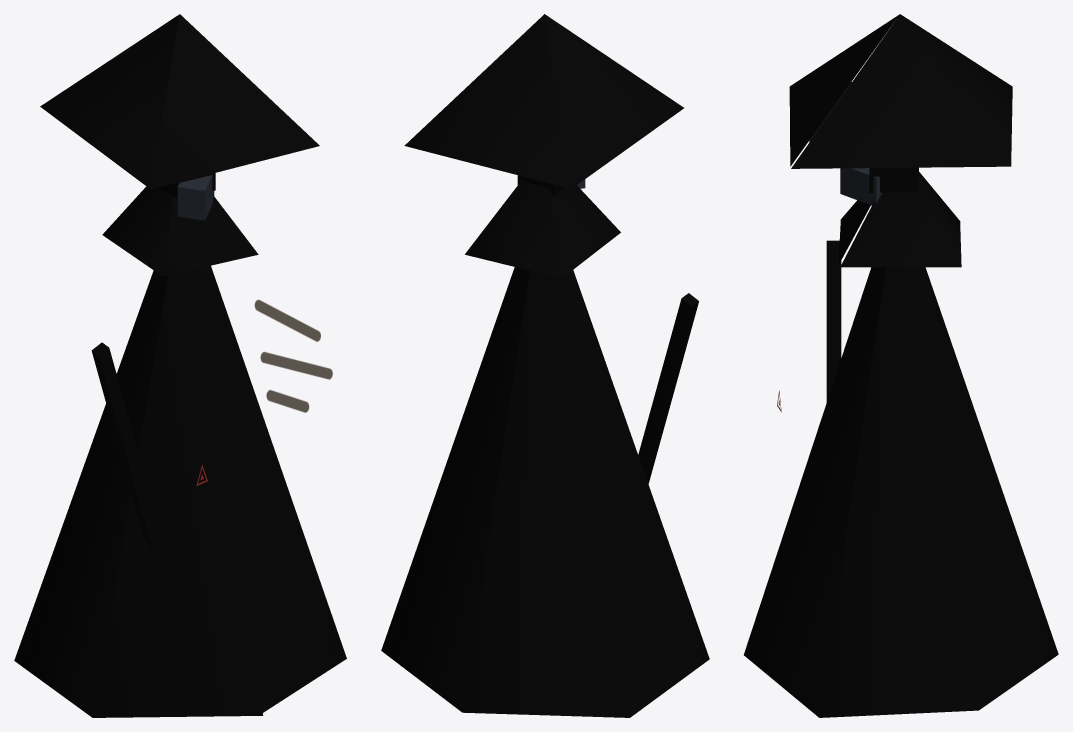
File: character-comparison-ronin-hybrid-v1.glb
3 views of the same model, side by side, from view 1: azimuth 30°, elevation 25°; view 2: azimuth 150°, elevation 25°; view 3: azimuth 270°, elevation 25° (orthographic).
Parts seen in each view (by area): view 1: Ronin hybrid; view 2: Ronin hybrid; view 3: Ronin hybrid.
Part boxes in pixels (x1=…): Ronin hybrid: x1=14, y1=14, x2=346, y2=717; Ronin hybrid: x1=381, y1=14, x2=709, y2=717; Ronin hybrid: x1=744, y1=14, x2=1058, y2=717.
Size of the model in its own units: 1.96 by 4.8 by 2.17.
5 materials, 3 textured.
